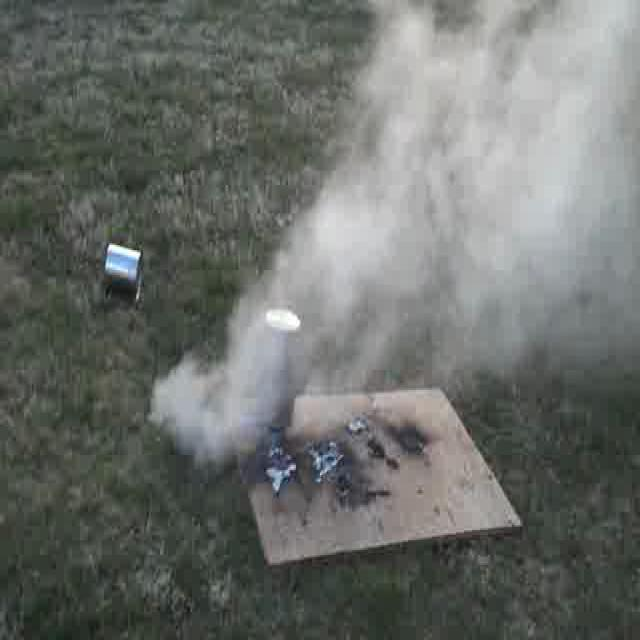Smoke: (362, 4, 640, 404), (373, 12, 638, 390), (154, 313, 258, 470), (158, 303, 258, 460)
